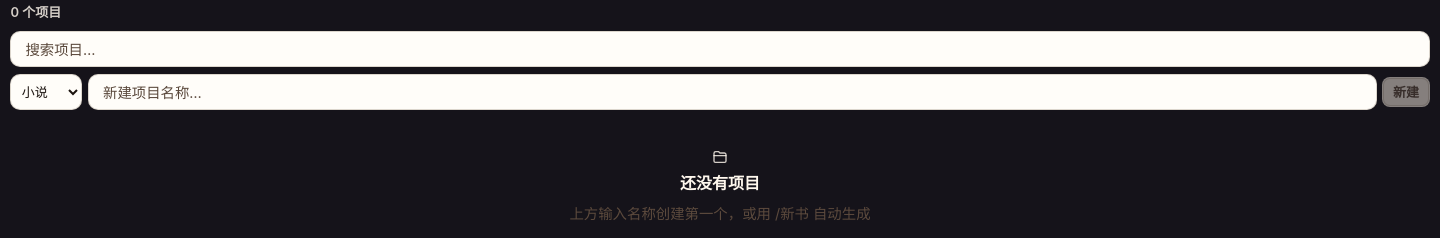
Scenario: ProjectTree › creates a project locally without reloading the whole project list
This screenshot has width=1440, height=238.
Type "新书计划" into the field named "新项目名称".
click(732, 92); type("新书计划")  # box [88, 74, 1377, 110]
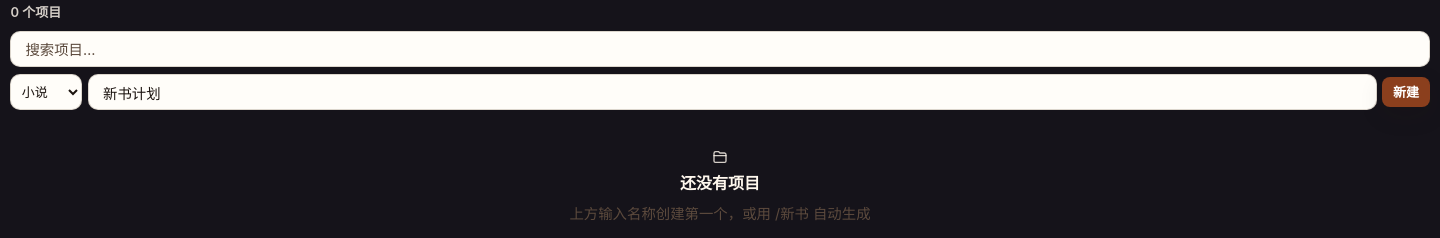
Press Enter in the field named "新项目名称", box [88, 74, 1377, 110]
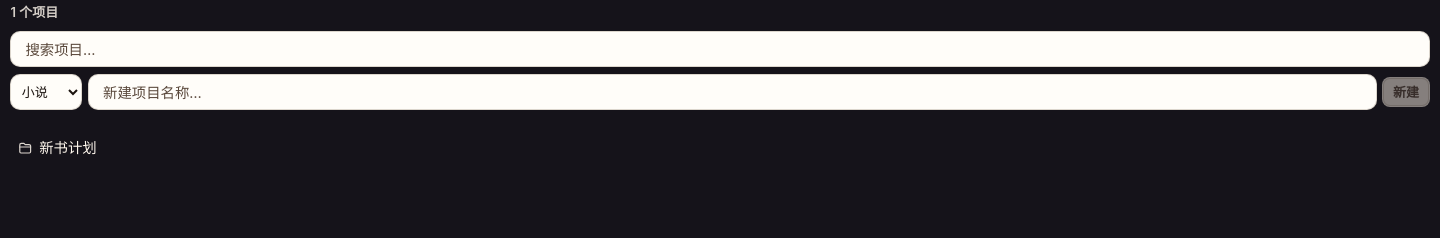
expect the text "新书计划" is shown: met, box [39, 136, 97, 160]
